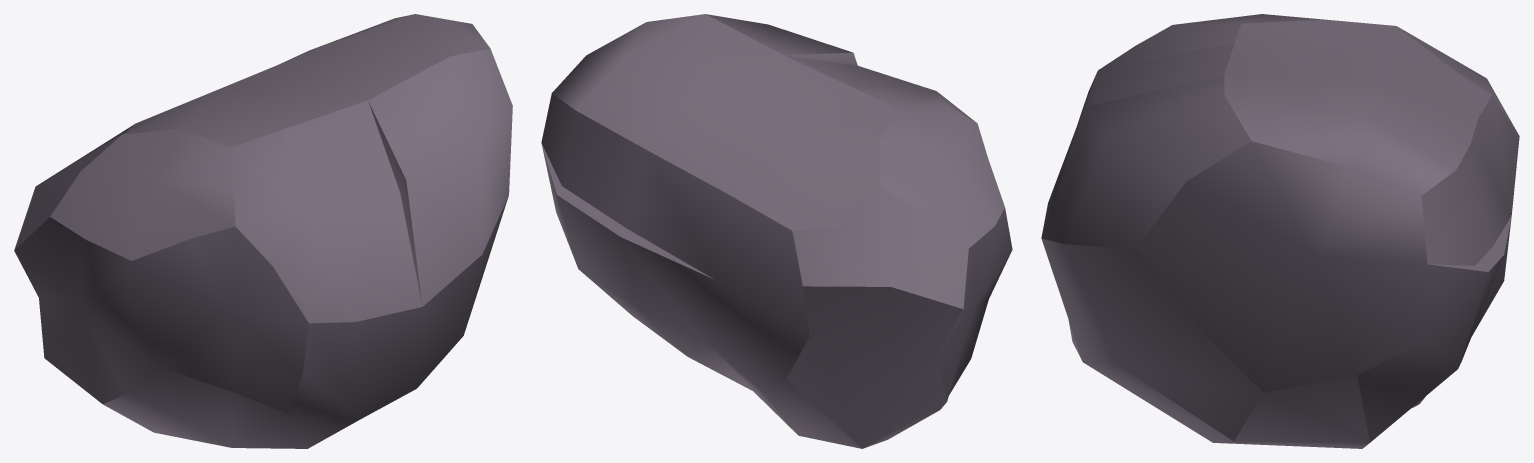
File: P_stone_07.fbx
3 renders of one model, left to right at view 1: azimuth 30°, elevation 25°; view 2: azimuth 150°, elevation 25°; view 3: azimuth 270°, elevation 25°, orthographic. The views are drawn at different scales.
Visible parts, largest first — view 1: lod1; view 2: lod1; view 3: lod1.
Boxes of the visible parts, bbox=[...] form: lod1: bbox=[14, 14, 512, 448]; lod1: bbox=[541, 14, 1012, 448]; lod1: bbox=[1041, 14, 1519, 448].
Size of what is drawn, in the model's own units: 365 by 286 by 282.
